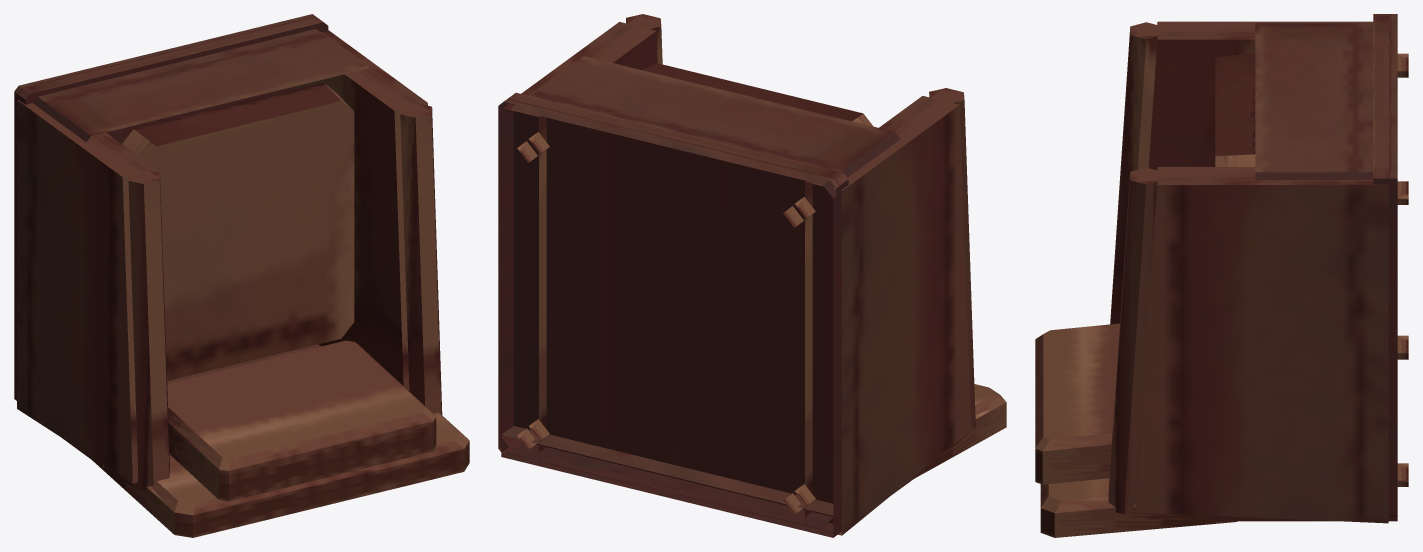
Rendered from pz_chair_seating_indoor_02_brown_lazy_fidelity_r1.obj.
3 renders of one model, left to right at view 1: azimuth 30°, elevation 25°; view 2: azimuth 150°, elevation 25°; view 3: azimuth 270°, elevation 25°, orthographic. The views are drawn at different scales.
Parts seen in each view (by area): view 1: pz_chair_seating_indoor_02_brown_lazy__seat_0__seat, pz_chair_seating_indoor_02_brown_lazy__lazy_arm_panel_-1__arm, pz_chair_seating_indoor_02_brown_lazy__back_cushion_0__back, pz_chair_seating_indoor_02_brown_lazy__lazy_arm_panel_1__arm, pz_chair_seating_indoor_02_brown_lazy__lower_body__body, pz_chair_seating_indoor_02_brown_lazy__rear_shell__back, pz_chair_seating_indoor_02_brown_lazy__sloping_rail_-1__arm, pz_chair_seating_indoor_02_brown_lazy__sloping_rail_1__arm, pz_chair_seating_indoor_02_brown_lazy__low_plinth__body, pz_chair_seating_indoor_02_brown_lazy__rear_body_bridge__body; view 2: pz_chair_seating_indoor_02_brown_lazy__low_plinth__body, pz_chair_seating_indoor_02_brown_lazy__lazy_arm_panel_-1__arm, pz_chair_seating_indoor_02_brown_lazy__lower_body__body, pz_chair_seating_indoor_02_brown_lazy__lazy_arm_panel_1__arm, pz_chair_seating_indoor_02_brown_lazy__rear_body_bridge__body, pz_chair_seating_indoor_02_brown_lazy__seat_0__seat, pz_chair_seating_indoor_02_brown_lazy__sloping_rail_-1__arm, pz_chair_seating_indoor_02_brown_lazy__rear_shell__back, pz_chair_seating_indoor_02_brown_lazy__sloping_rail_1__arm; view 3: pz_chair_seating_indoor_02_brown_lazy__lazy_arm_panel_1__arm, pz_chair_seating_indoor_02_brown_lazy__lower_body__body, pz_chair_seating_indoor_02_brown_lazy__back_cushion_0__back, pz_chair_seating_indoor_02_brown_lazy__lazy_arm_panel_-1__arm, pz_chair_seating_indoor_02_brown_lazy__sloping_rail_1__arm, pz_chair_seating_indoor_02_brown_lazy__low_plinth__body, pz_chair_seating_indoor_02_brown_lazy__sloping_rail_-1__arm, pz_chair_seating_indoor_02_brown_lazy__rear_shell__back, pz_chair_seating_indoor_02_brown_lazy__seat_0__seat, pz_chair_seating_indoor_02_brown_lazy__rear_body_bridge__body.
Part boxes in pixels (x1=…): pz_chair_seating_indoor_02_brown_lazy__seat_0__seat: x1=122, y1=82, x2=354, y2=380; pz_chair_seating_indoor_02_brown_lazy__lazy_arm_panel_-1__arm: x1=17, y1=99, x2=155, y2=483; pz_chair_seating_indoor_02_brown_lazy__back_cushion_0__back: x1=167, y1=340, x2=436, y2=501; pz_chair_seating_indoor_02_brown_lazy__lazy_arm_panel_1__arm: x1=296, y1=30, x2=427, y2=390; pz_chair_seating_indoor_02_brown_lazy__lower_body__body: x1=33, y1=29, x2=371, y2=142; pz_chair_seating_indoor_02_brown_lazy__rear_shell__back: x1=92, y1=412, x2=469, y2=537; pz_chair_seating_indoor_02_brown_lazy__sloping_rail_-1__arm: x1=128, y1=170, x2=169, y2=490; pz_chair_seating_indoor_02_brown_lazy__sloping_rail_1__arm: x1=400, y1=103, x2=442, y2=414; pz_chair_seating_indoor_02_brown_lazy__low_plinth__body: x1=14, y1=14, x2=328, y2=400; pz_chair_seating_indoor_02_brown_lazy__rear_body_bridge__body: x1=62, y1=344, x2=320, y2=467; pz_chair_seating_indoor_02_brown_lazy__low_plinth__body: x1=498, y1=92, x2=848, y2=534; pz_chair_seating_indoor_02_brown_lazy__lazy_arm_panel_-1__arm: x1=805, y1=96, x2=970, y2=535; pz_chair_seating_indoor_02_brown_lazy__lower_body__body: x1=501, y1=56, x2=900, y2=526; pz_chair_seating_indoor_02_brown_lazy__lazy_arm_panel_1__arm: x1=503, y1=22, x2=657, y2=458; pz_chair_seating_indoor_02_brown_lazy__rear_body_bridge__body: x1=501, y1=426, x2=929, y2=537; pz_chair_seating_indoor_02_brown_lazy__seat_0__seat: x1=642, y1=63, x2=873, y2=126; pz_chair_seating_indoor_02_brown_lazy__sloping_rail_-1__arm: x1=929, y1=88, x2=975, y2=428; pz_chair_seating_indoor_02_brown_lazy__rear_shell__back: x1=915, y1=384, x2=1006, y2=477; pz_chair_seating_indoor_02_brown_lazy__sloping_rail_1__arm: x1=626, y1=14, x2=662, y2=64; pz_chair_seating_indoor_02_brown_lazy__lazy_arm_panel_1__arm: x1=1135, y1=167, x2=1388, y2=523; pz_chair_seating_indoor_02_brown_lazy__lower_body__body: x1=1255, y1=23, x2=1373, y2=180; pz_chair_seating_indoor_02_brown_lazy__back_cushion_0__back: x1=1035, y1=323, x2=1119, y2=484; pz_chair_seating_indoor_02_brown_lazy__lazy_arm_panel_-1__arm: x1=1148, y1=21, x2=1373, y2=169; pz_chair_seating_indoor_02_brown_lazy__sloping_rail_1__arm: x1=1108, y1=167, x2=1162, y2=514; pz_chair_seating_indoor_02_brown_lazy__low_plinth__body: x1=1373, y1=14, x2=1397, y2=516; pz_chair_seating_indoor_02_brown_lazy__sloping_rail_-1__arm: x1=1110, y1=22, x2=1162, y2=324; pz_chair_seating_indoor_02_brown_lazy__rear_shell__back: x1=1040, y1=478, x2=1237, y2=537; pz_chair_seating_indoor_02_brown_lazy__seat_0__seat: x1=1215, y1=53, x2=1255, y2=166; pz_chair_seating_indoor_02_brown_lazy__rear_body_bridge__body: x1=1208, y1=515, x2=1397, y2=521.
Size of the model in its own units: 0.8624 by 0.9069 by 0.8347.
Materials: 1 (1 with a texture image).
